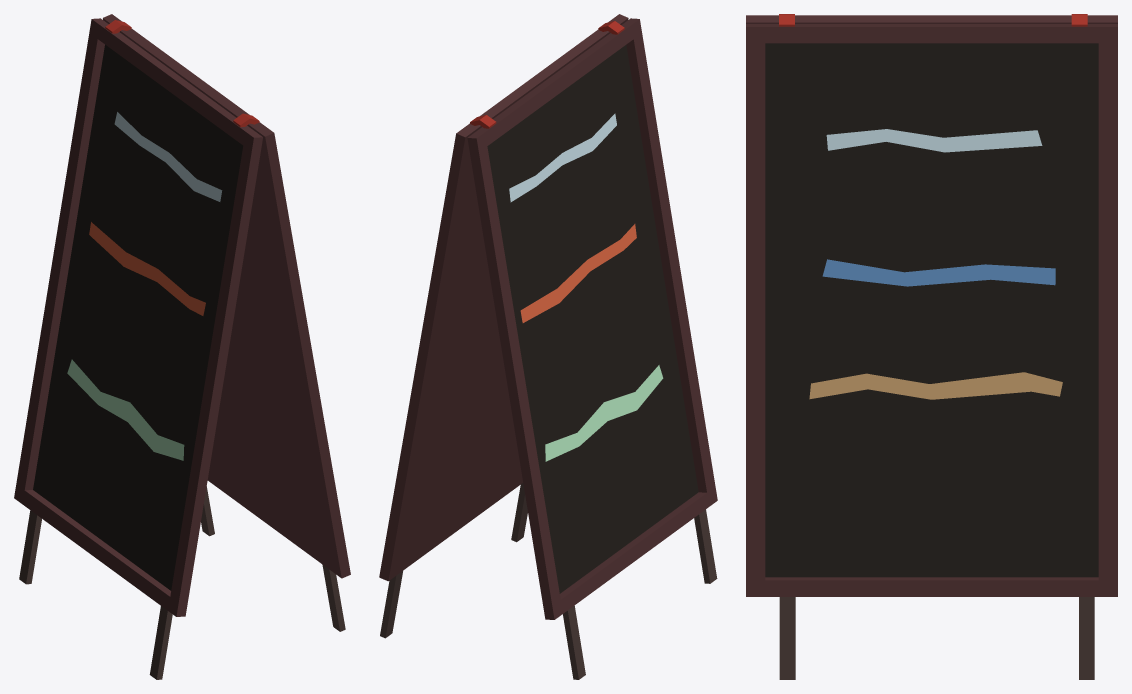
The model's file is Sign_02.glb.
3 renders of one model, left to right at view 1: azimuth 30°, elevation 25°; view 2: azimuth 150°, elevation 25°; view 3: azimuth 270°, elevation 25°, orthographic. The views are drawn at different scales.
Parts seen in each view (by area): view 1: Sign_02; view 2: Sign_02; view 3: Sign_02.
Boxes of the visible parts, box(x1,y1,x2,y2) form: Sign_02: box(14, 14, 350, 679); Sign_02: box(379, 14, 717, 679); Sign_02: box(746, 14, 1117, 679).
Size of what is drawn, in the model's own units: 0.6349 by 1.68 by 0.9225.
Materials: 1 (1 with a texture image).
